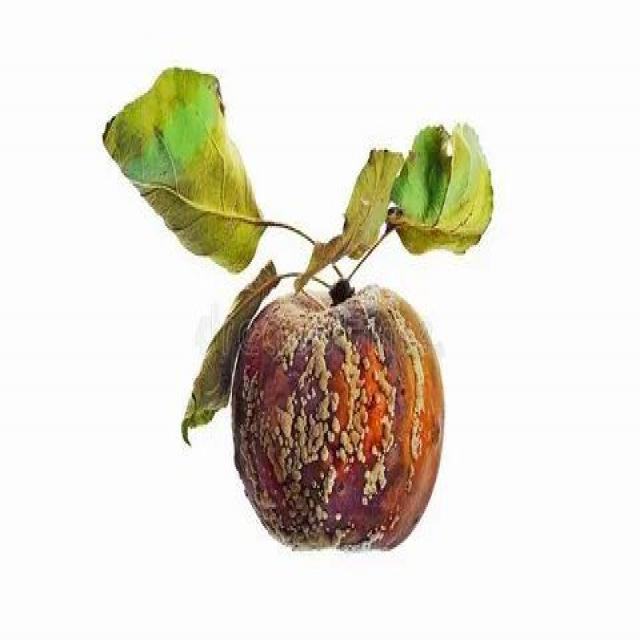Rotten: (233, 273, 450, 565)
